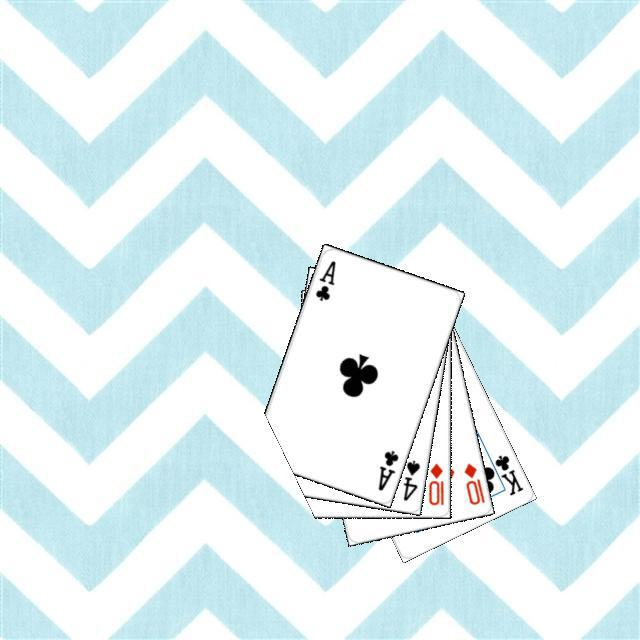10d: (459, 458, 486, 507), (424, 458, 445, 507)
4s: (398, 455, 421, 502)
Ac: (373, 445, 400, 493), (310, 256, 337, 303)
Kc: (483, 450, 525, 497)
